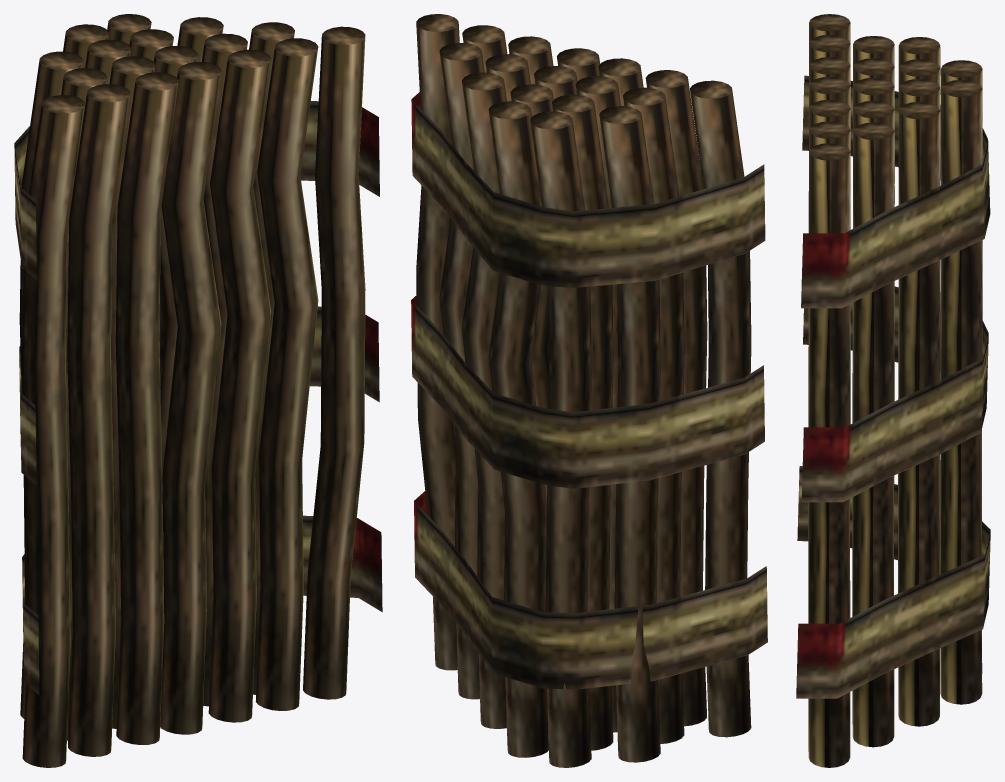
Rendered from wood_logs.dae.
3 views of the same model, side by side, from view 1: azimuth 30°, elevation 25°; view 2: azimuth 150°, elevation 25°; view 3: azimuth 270°, elevation 25° (orthographic). The views are drawn at different scales.
Parts seen in each view (by area): view 1: Circle; view 2: Circle; view 3: Circle.
Boxes of the visible parts, left/top/right/bottom form: Circle: left=14, top=14, right=382, bottom=767; Circle: left=411, top=14, right=767, bottom=767; Circle: left=796, top=14, right=990, bottom=767.
Size of the model in its own units: 0.8652 by 0.4509 by 1.58.
